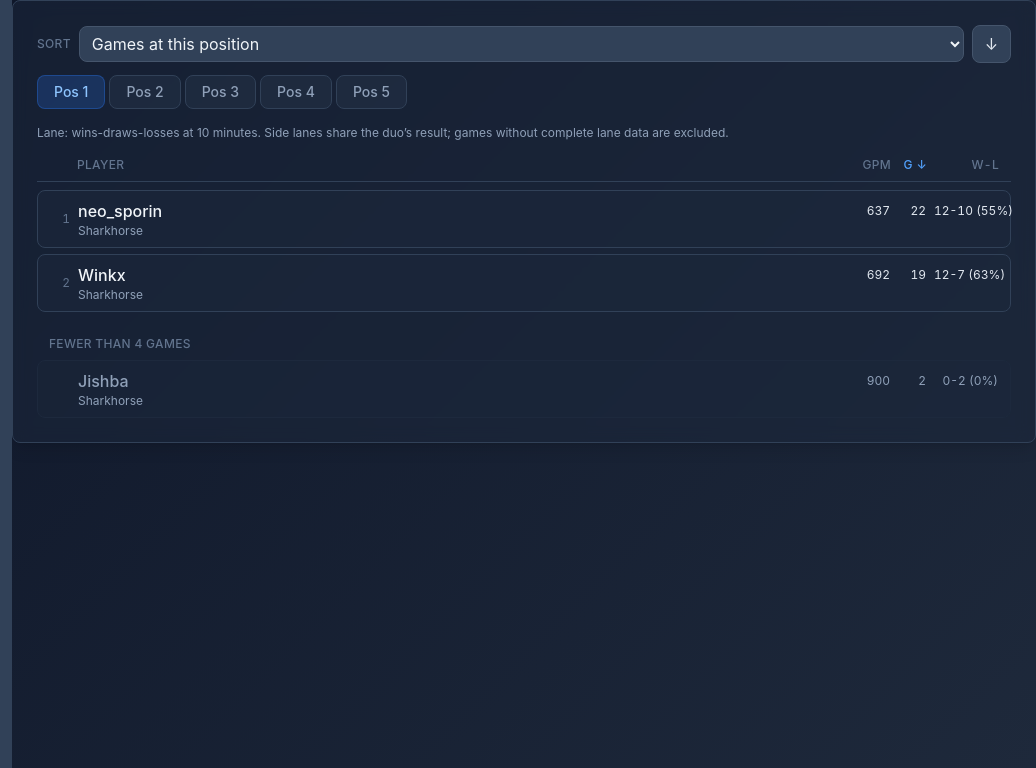
DivisionPlayers › shows lane records and lets the phone sort control rank by lane win rate
Expected: the text "neo_sporin" is shown, [78,201,162,221]
Select "Lane wins-draws-losses at 10 minutes (sorted by win rate)" in the dropdown labelled "Sort" at (521, 44), box [79,26,964,62]
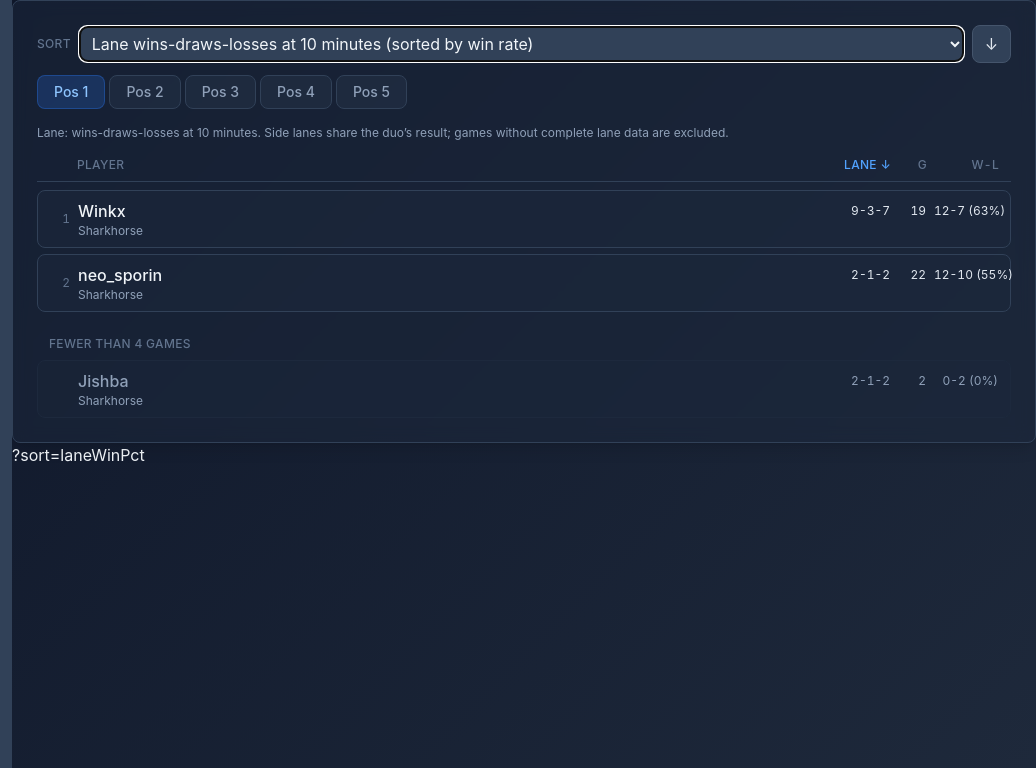
Now the text with test id "search" reads "?sort=laneWinPct", box [12,445,145,465]
